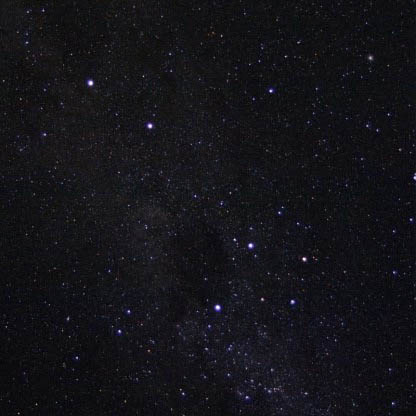Southern Cross: (244, 233, 260, 256), (284, 290, 299, 313), (296, 249, 312, 269), (212, 296, 225, 317)
